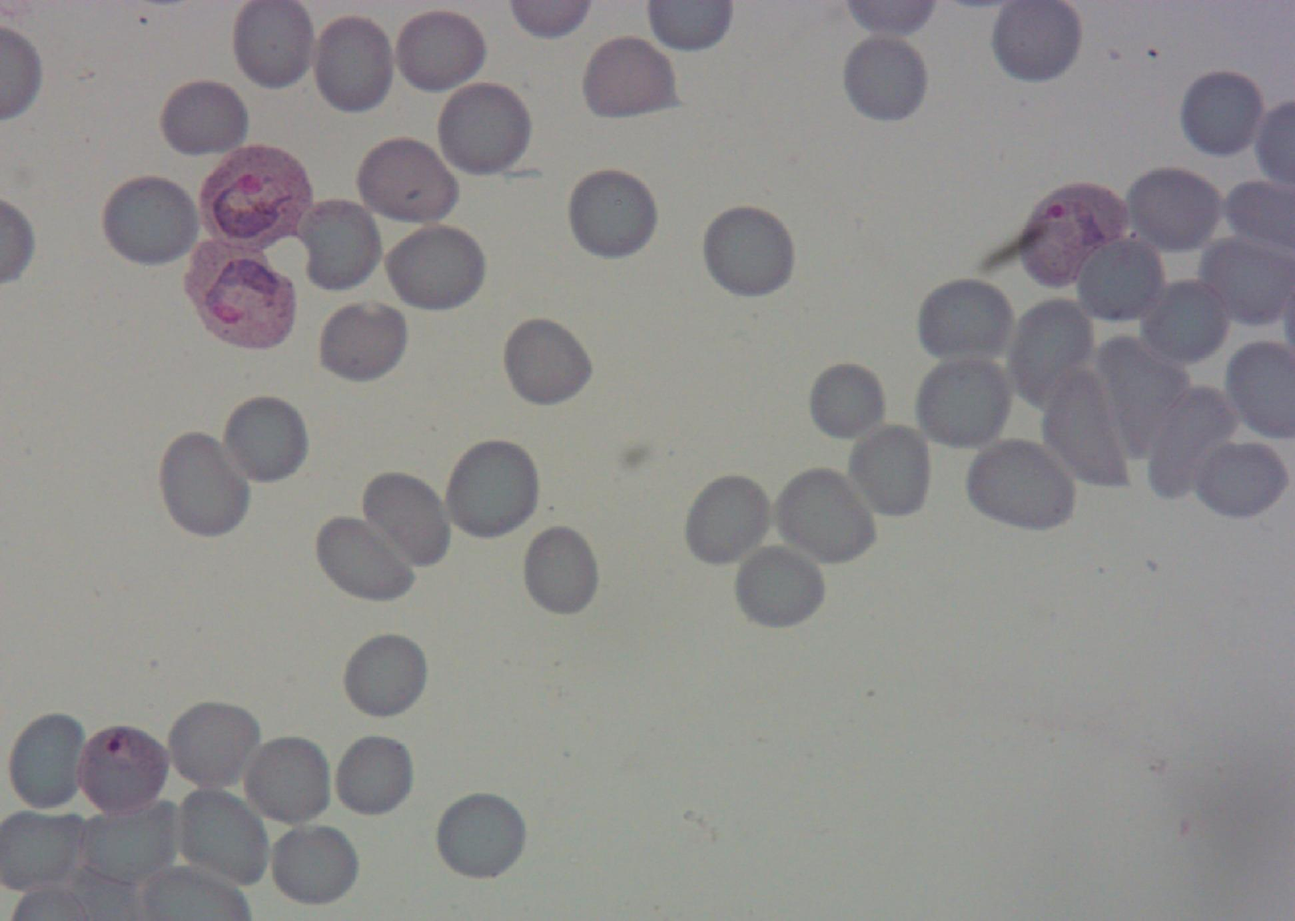Infected: (183, 240, 296, 352), (197, 144, 313, 252), (1018, 186, 1129, 290)
Uninfected: (1090, 334, 1190, 447), (964, 437, 1076, 531), (442, 438, 543, 542), (1041, 371, 1130, 487), (771, 464, 878, 559), (1150, 385, 1239, 497), (434, 80, 534, 179), (158, 433, 252, 538), (312, 511, 419, 603), (175, 785, 270, 888), (699, 202, 797, 301), (1007, 299, 1094, 410), (917, 350, 1015, 448), (99, 174, 201, 268), (352, 138, 456, 227), (1122, 165, 1223, 255), (308, 15, 397, 117), (565, 166, 660, 261), (292, 196, 384, 294), (166, 703, 264, 795), (915, 278, 1017, 366), (384, 224, 486, 312), (681, 473, 775, 568), (433, 789, 529, 882), (578, 32, 678, 121), (73, 800, 180, 882), (731, 541, 828, 631), (1201, 235, 1293, 329), (500, 317, 594, 408), (839, 31, 931, 123), (219, 394, 311, 485), (1138, 277, 1232, 366), (392, 7, 488, 94), (5, 710, 89, 809), (362, 471, 452, 563), (1177, 68, 1267, 159), (267, 821, 361, 908), (1074, 233, 1165, 322), (518, 523, 602, 619), (155, 78, 250, 162), (318, 301, 410, 387), (845, 428, 933, 517), (232, 0, 320, 87), (250, 737, 333, 828), (332, 732, 417, 820), (1196, 441, 1289, 521), (806, 361, 890, 445), (341, 633, 427, 712)
